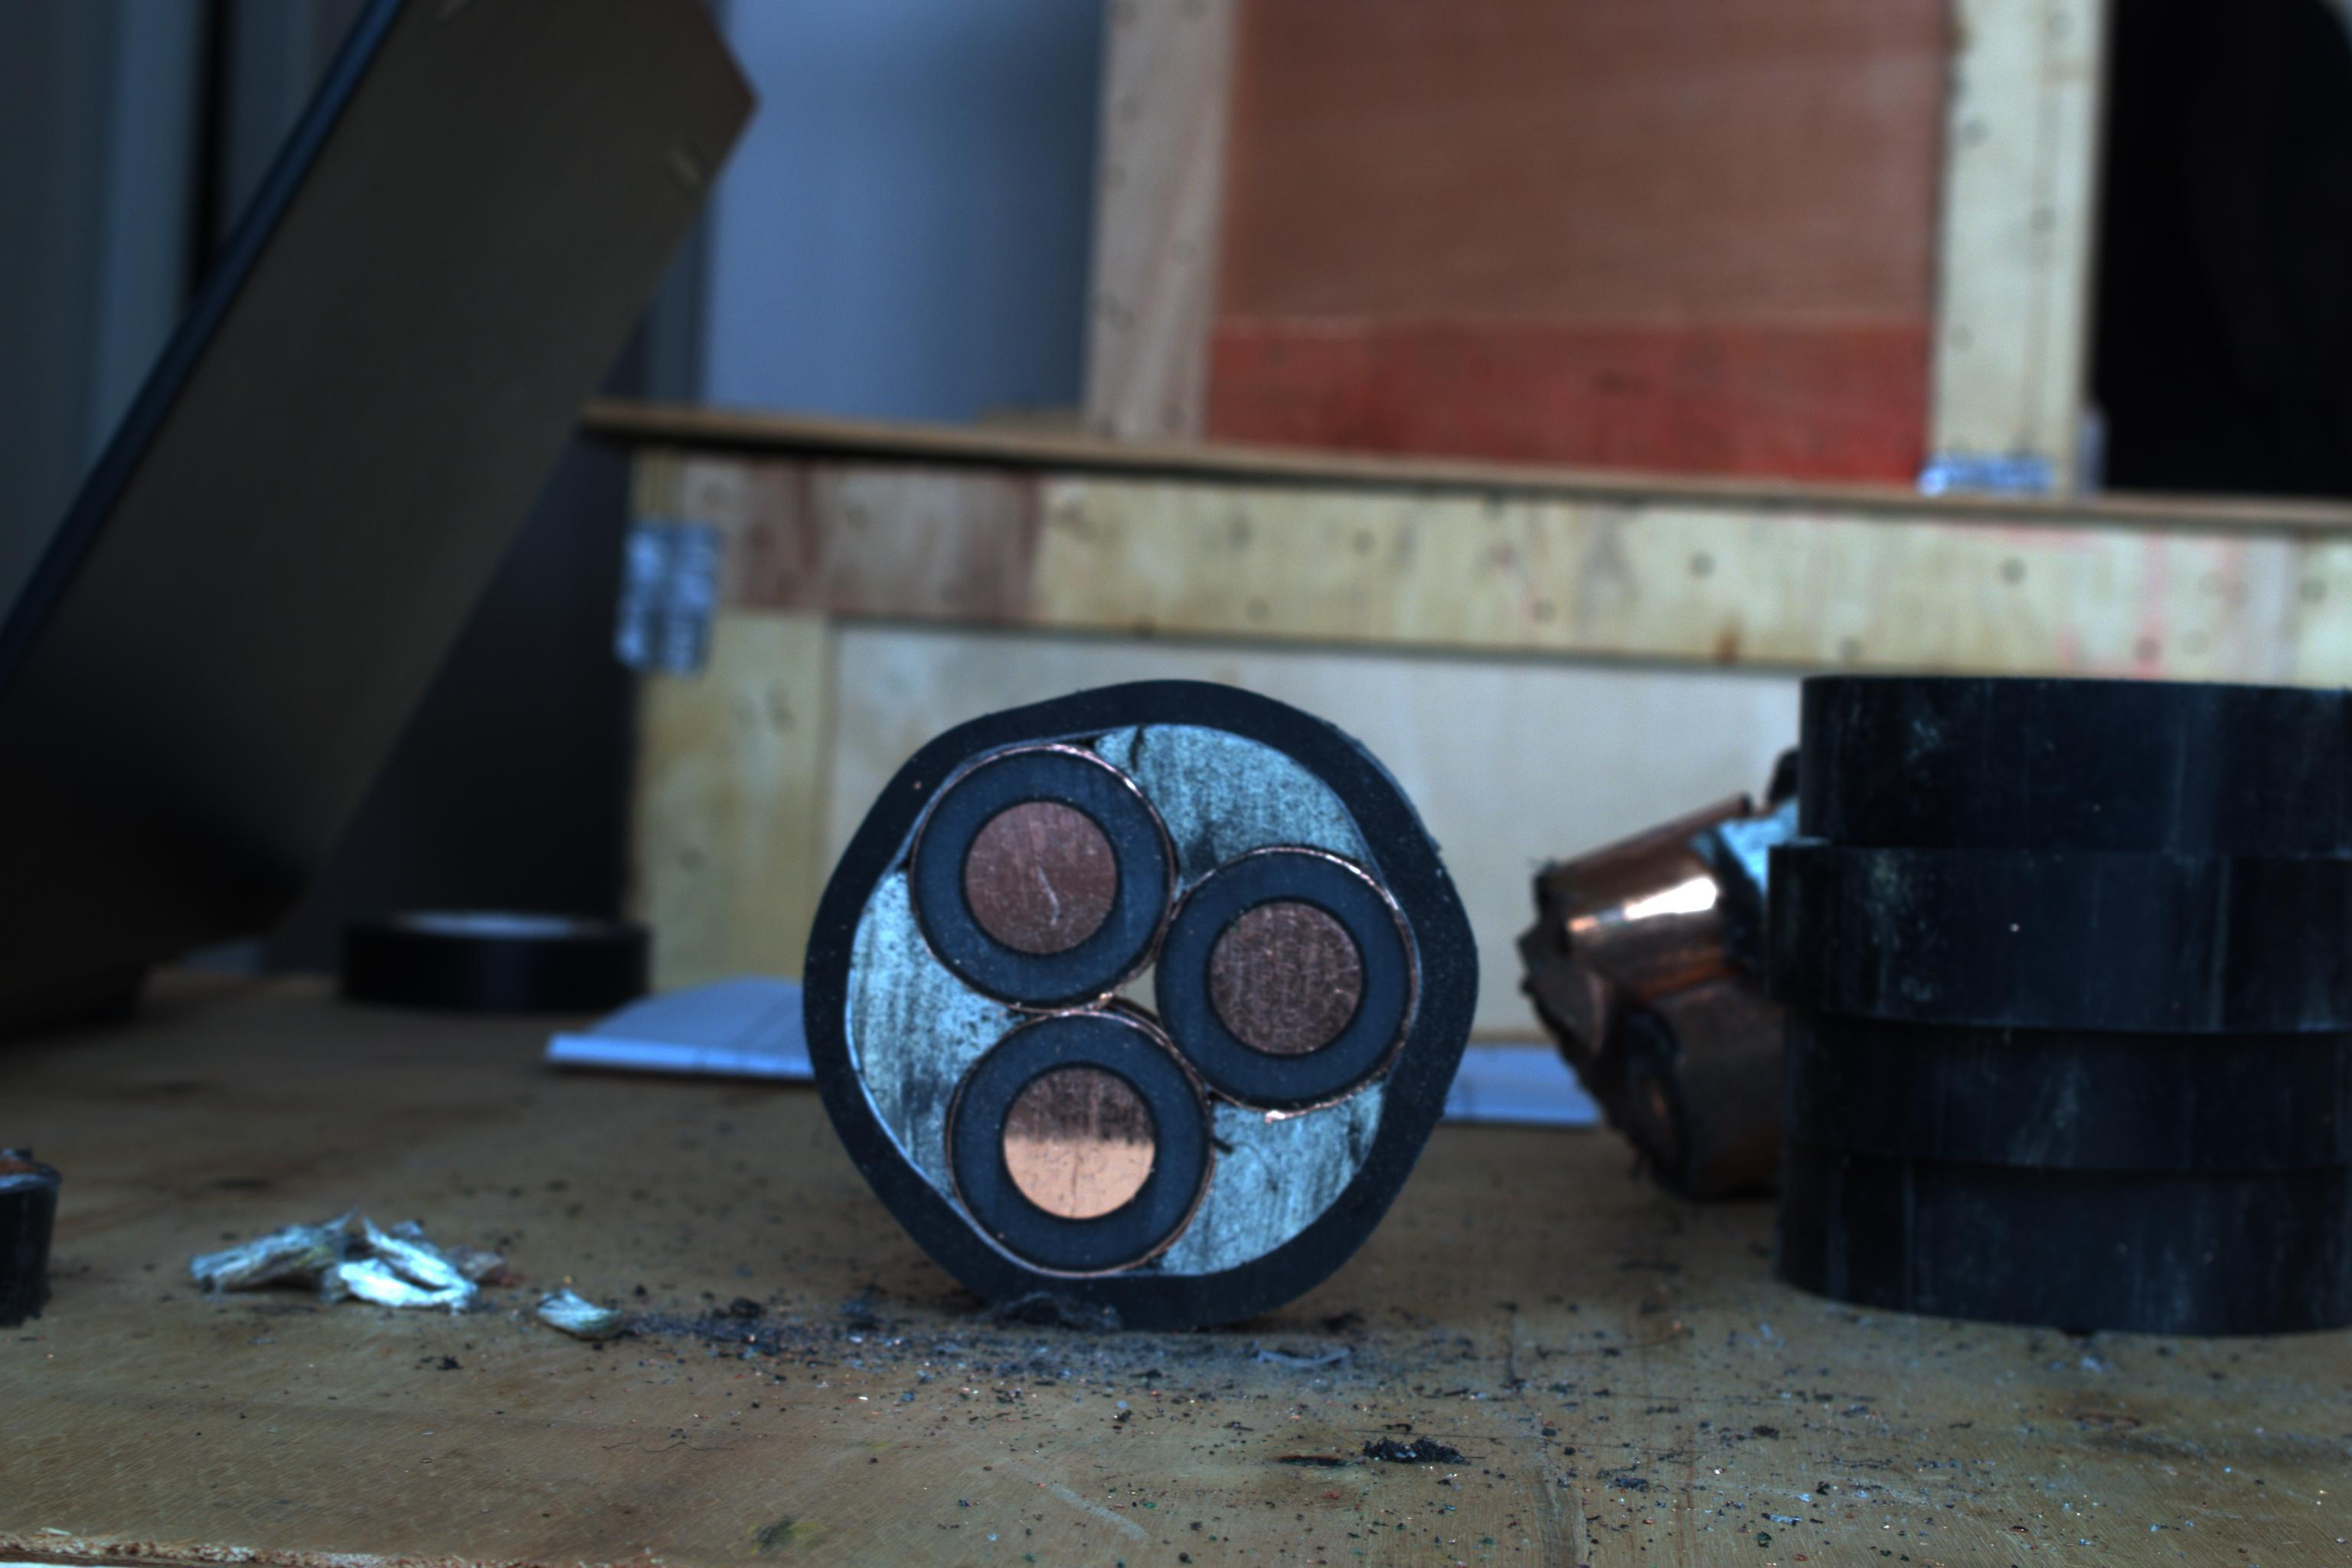ZA_YJV_8.7_10kV_3x240: (800, 679, 1477, 1325)
